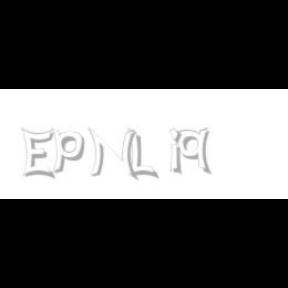E: (22, 128, 54, 180)
L: (128, 128, 156, 180)
N: (88, 128, 136, 180)
i: (169, 128, 185, 176)
p: (52, 128, 88, 174)
q: (177, 128, 213, 176)
